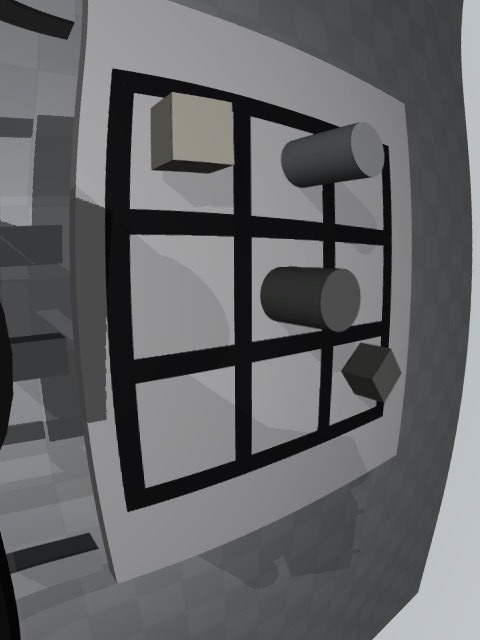can: (281, 122, 385, 188)
cube: (341, 343, 402, 403)
cylinder: (260, 267, 360, 332)
foam: (150, 92, 234, 174)
